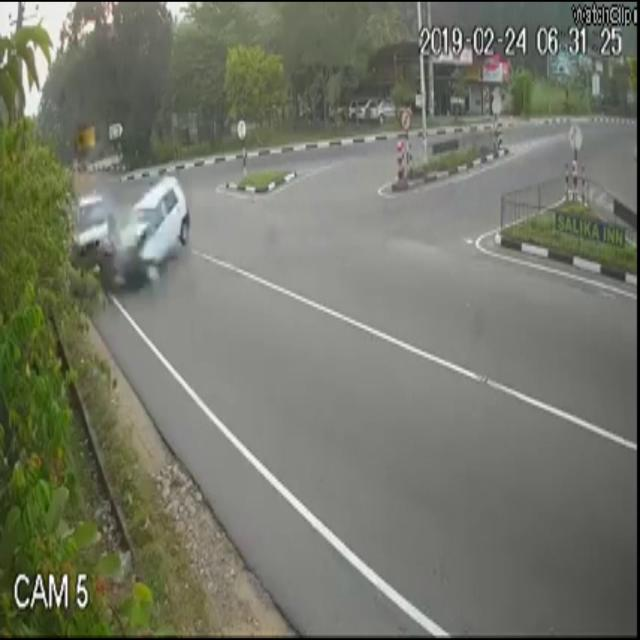accident: (68, 200, 207, 308)
